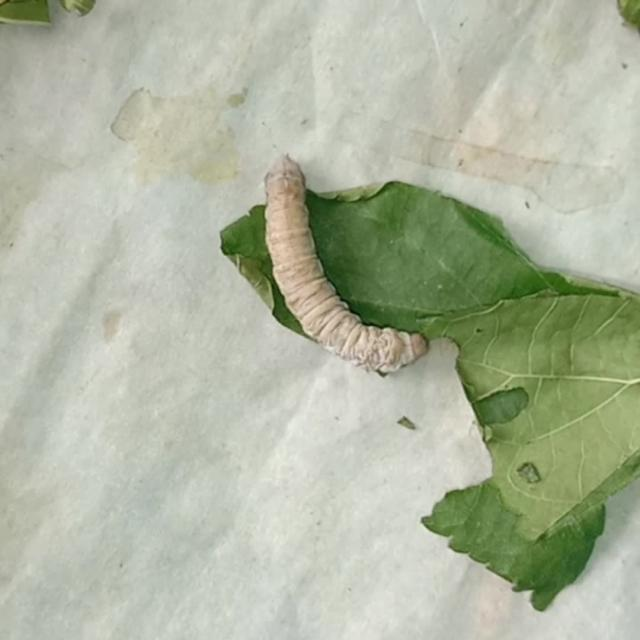Grasserie: (243, 129, 438, 400)
